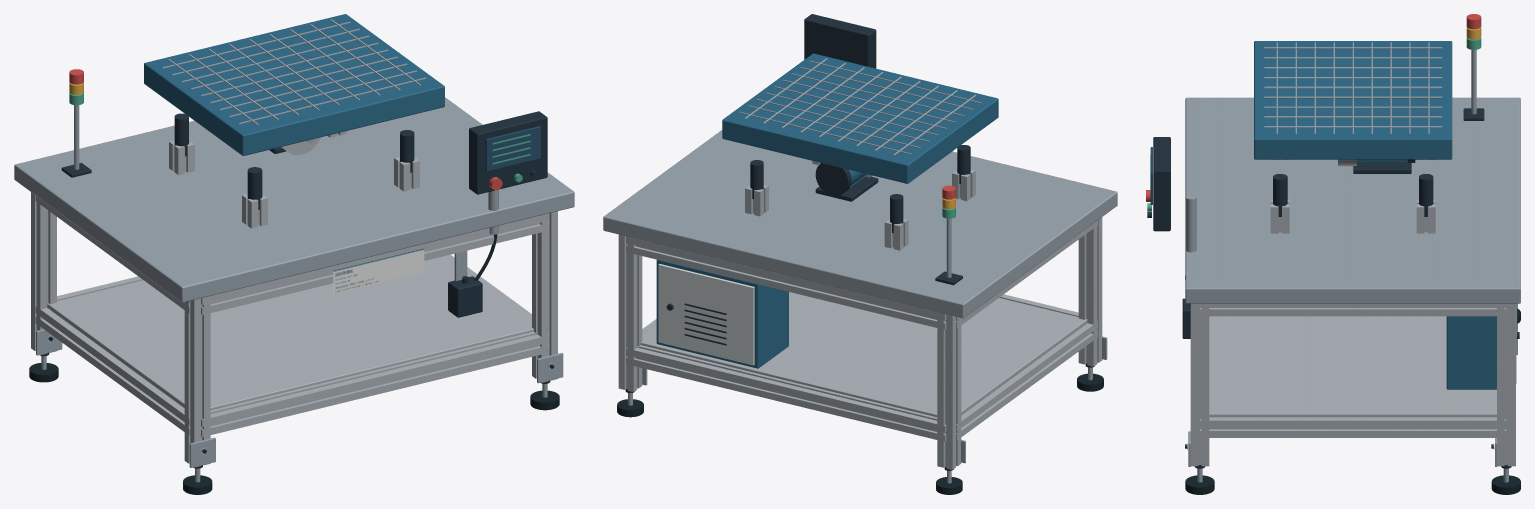
Rendered from flour-sifter-cell.glb.
3 views of the same model, side by side, from view 1: azimuth 30°, elevation 25°; view 2: azimuth 150°, elevation 25°; view 3: azimuth 270°, elevation 25° (orthographic). The views are drawn at different scales.
Visible parts, largest first — view 1: ClosedMachineBed_40, LowerShelf_41, ScreenFrame_79, SlottedExtrusion_34, SlottedExtrusion_35, SlottedExtrusion_11, SlottedExtrusion_36, ConsoleBack_52, SlottedExtrusion_27, SlottedExtrusion_3, OriginalNameplate_65, Screen_53 (+7 smaller); view 2: ClosedMachineBed_40, LowerShelf_41, ScreenFrame_79, BackDoor_43, SlottedExtrusion_32, SlottedExtrusion_33, SlottedExtrusion_3, Cabinet_42, SlottedExtrusion_19, SlottedExtrusion_36, SlottedExtrusion_11, ConsoleBack_52 (+6 smaller); view 3: ClosedMachineBed_40, LowerShelf_41, ScreenFrame_79, SlottedExtrusion_38, SlottedExtrusion_39, Cabinet_42, SlottedExtrusion_27, SlottedExtrusion_19, ConsoleBack_52, MountFoot_103, ConsoleBracket_51, SlottedExtrusion_76 (+7 smaller).
Part boxes in pixels (x1,y1,x2,y2): ClosedMachineBed_40: [14, 97, 574, 302]; LowerShelf_41: [47, 256, 533, 410]; ScreenFrame_79: [144, 14, 444, 155]; SlottedExtrusion_34: [201, 331, 549, 436]; SlottedExtrusion_35: [201, 213, 549, 314]; SlottedExtrusion_11: [184, 296, 210, 467]; SlottedExtrusion_36: [35, 306, 190, 435]; ConsoleBack_52: [469, 111, 547, 194]; SlottedExtrusion_27: [532, 211, 557, 382]; SlottedExtrusion_3: [31, 192, 56, 355]; OriginalNameplate_65: [333, 248, 424, 294]; Screen_53: [485, 126, 540, 171]; ClosedMachineBed_40: [603, 130, 1117, 318]; LowerShelf_41: [640, 292, 1087, 417]; ScreenFrame_79: [722, 53, 998, 183]; BackDoor_43: [658, 264, 754, 365]; SlottedExtrusion_32: [626, 345, 946, 441]; SlottedExtrusion_33: [626, 236, 946, 329]; SlottedExtrusion_3: [937, 312, 961, 469]; Cabinet_42: [656, 259, 788, 368]; SlottedExtrusion_19: [618, 234, 642, 391]; SlottedExtrusion_36: [956, 321, 1097, 440]; SlottedExtrusion_11: [1078, 217, 1102, 366]; ConsoleBack_52: [804, 14, 876, 68]; ClosedMachineBed_40: [1185, 97, 1520, 303]; LowerShelf_41: [1209, 316, 1496, 417]; ScreenFrame_79: [1254, 41, 1452, 159]; SlottedExtrusion_38: [1200, 417, 1506, 437]; SlottedExtrusion_39: [1200, 303, 1506, 316]; Cabinet_42: [1446, 316, 1496, 389]; SlottedExtrusion_27: [1190, 303, 1209, 466]; SlottedExtrusion_19: [1497, 303, 1515, 466]; ConsoleBack_52: [1153, 137, 1170, 231]; MountFoot_103: [1353, 159, 1411, 173]; ConsoleBracket_51: [1186, 195, 1196, 252]; SlottedExtrusion_76: [1416, 199, 1435, 233].
Size of the model in its own units: 1.55 by 1.2 by 1.29.
11 materials, 3 textured.
